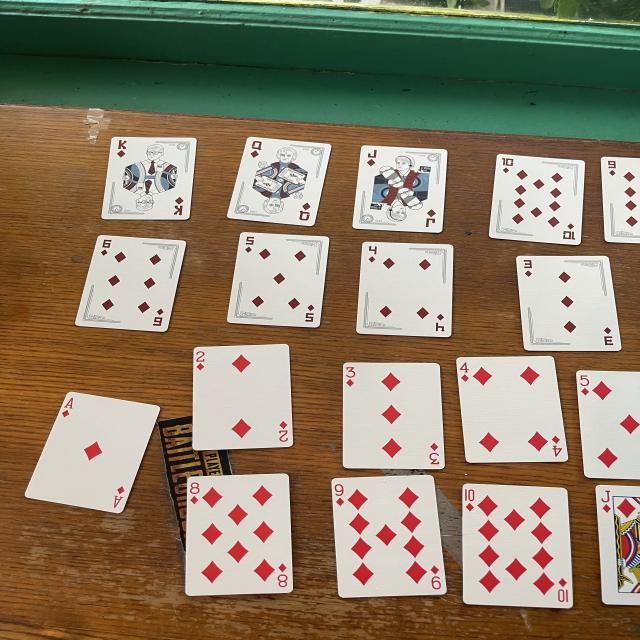10 of diamonds: (462, 484, 573, 609), (488, 154, 585, 245)
2 of diamonds: (193, 344, 293, 450)
3 of diamonds: (343, 362, 445, 470), (517, 256, 622, 351)
4 of diamonds: (457, 356, 568, 462), (357, 241, 453, 338)
5 of diamonds: (227, 232, 330, 328), (577, 370, 640, 479)
6 of diamonds: (75, 235, 187, 331)
8 of diamonds: (185, 474, 293, 596)
9 of diamonds: (332, 475, 447, 598), (602, 156, 640, 244)
Ace of diamonds: (25, 391, 160, 514)
Jack of diamonds: (353, 145, 447, 232), (595, 485, 640, 605)
King of diamonds: (102, 136, 197, 220)
Queen of diamonds: (228, 136, 330, 225)
